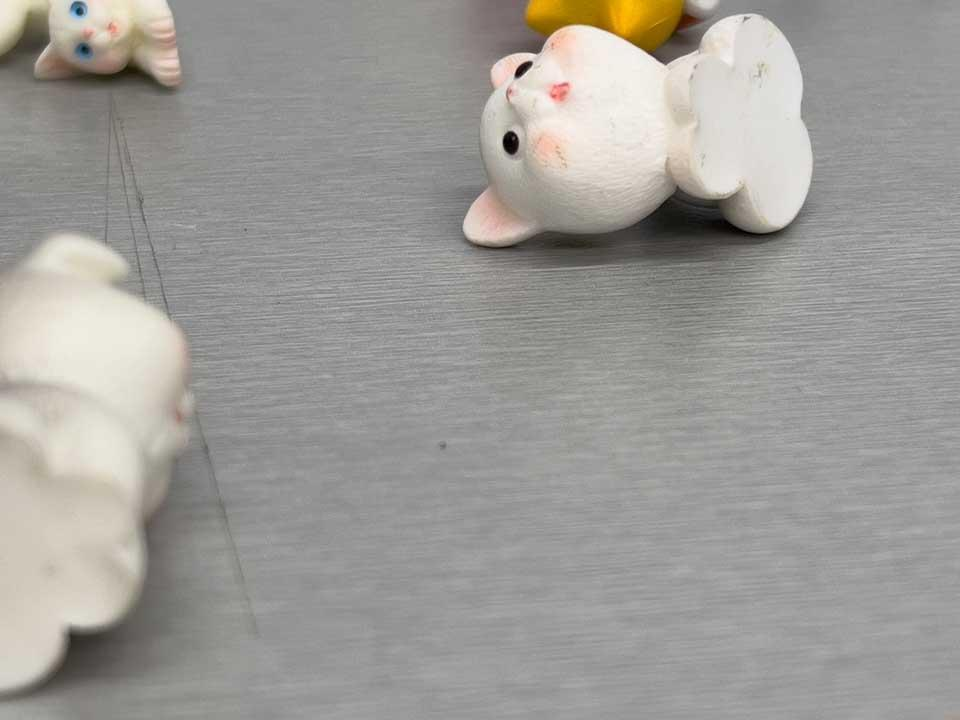pet: (0, 237, 192, 695), (464, 13, 813, 246), (0, 0, 186, 92), (521, 2, 722, 54)
